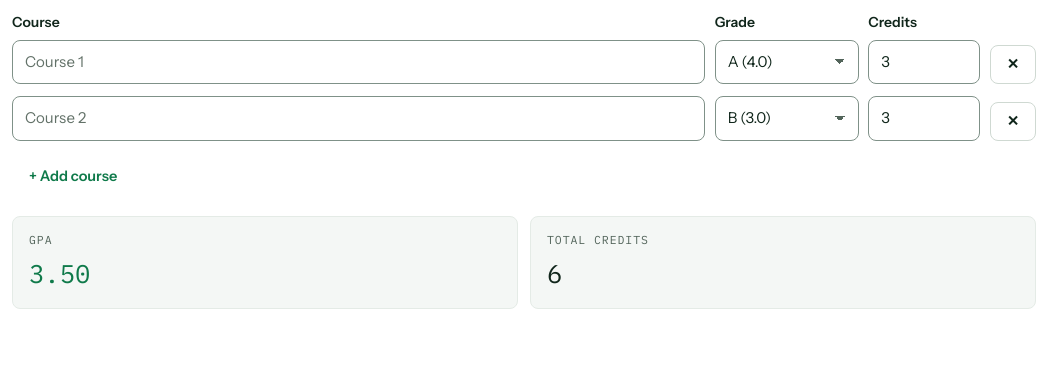
Test case: GpaCalculator › shows an error for invalid (negative) credit hours
Replace the text in the number field with placeholder "0" with "-2" at coordinates (924, 62), box [868,40,980,84]
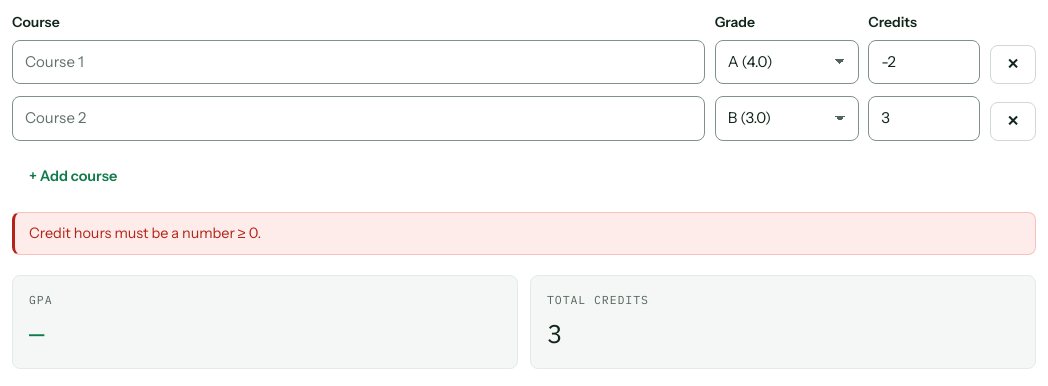
Now the text "Credit hours must be a number ≥ 0." is shown, box [12,212,1036,255]
